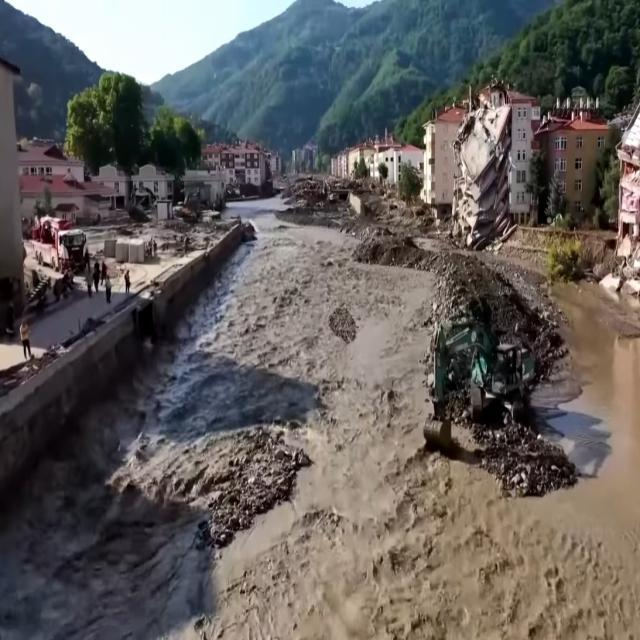flood: (527, 285, 640, 530)
house: (542, 106, 614, 232), (482, 86, 536, 218), (191, 134, 276, 210), (420, 100, 468, 205), (11, 140, 86, 188), (354, 140, 408, 186)
